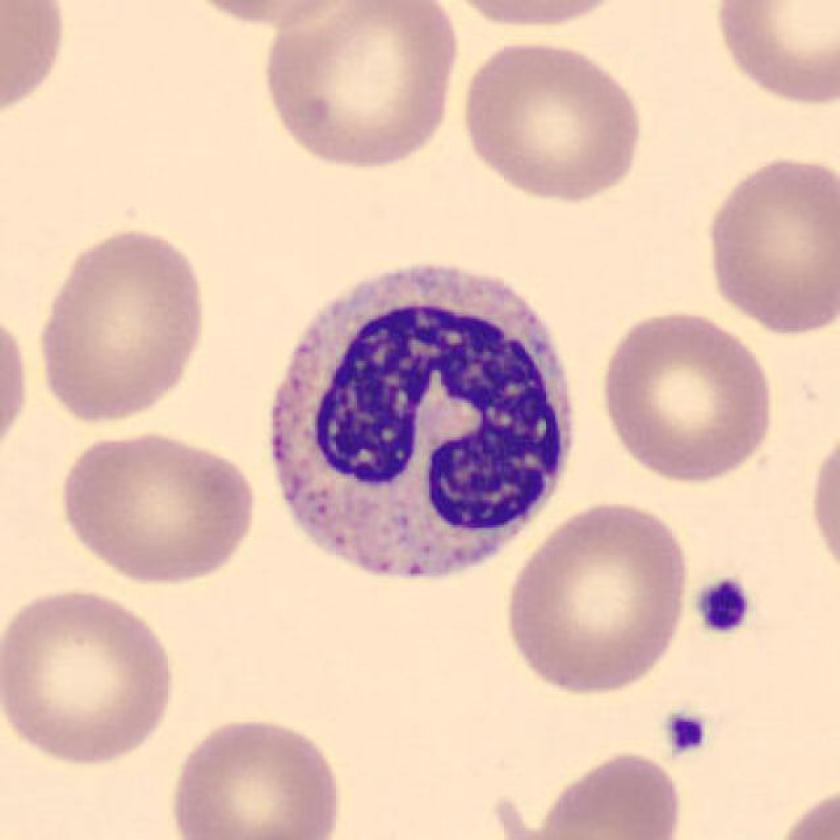neutrophil: (270, 263, 572, 580)
